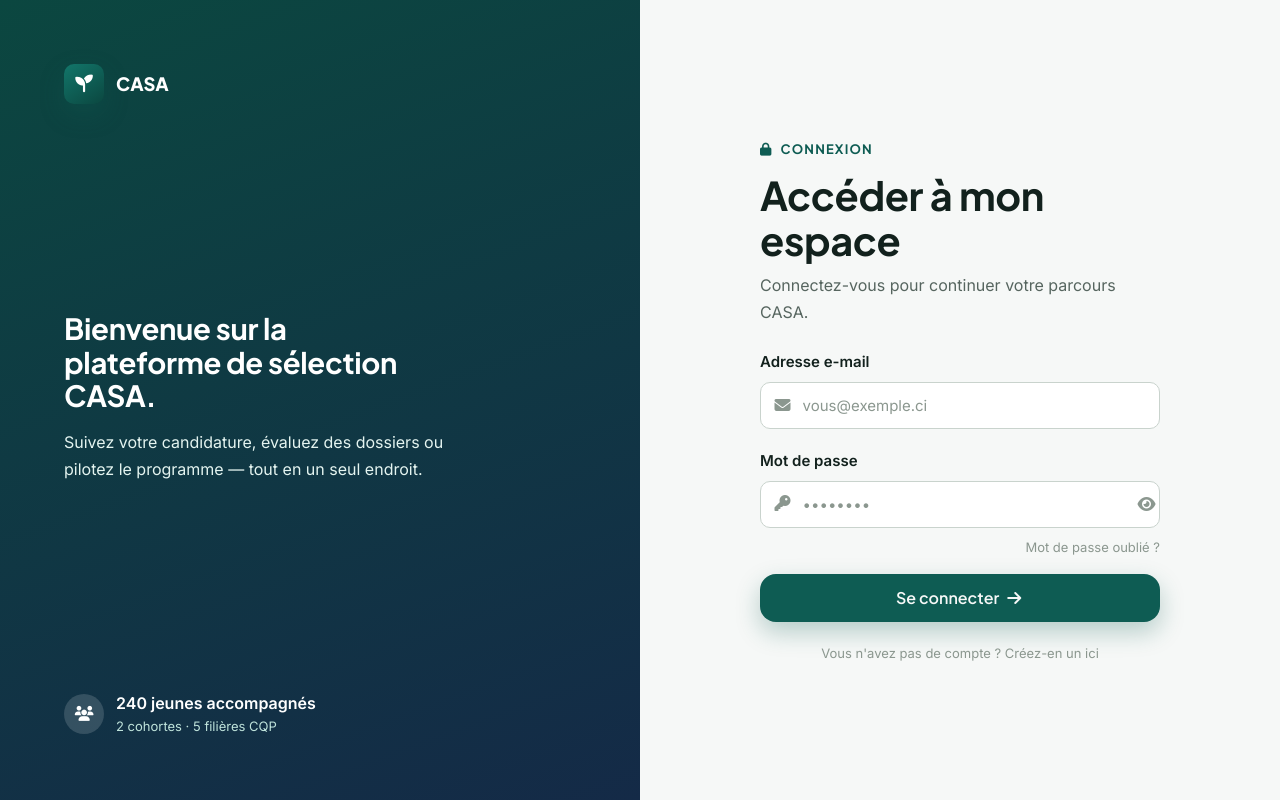
Test: LoginPage › 429 -> message « trop de tentatives »
This screenshot has width=1280, height=800.
Type "x@y.ci" into the field labelled "Adresse e-mail" at (960, 406), box 760,382 -> 1160,429
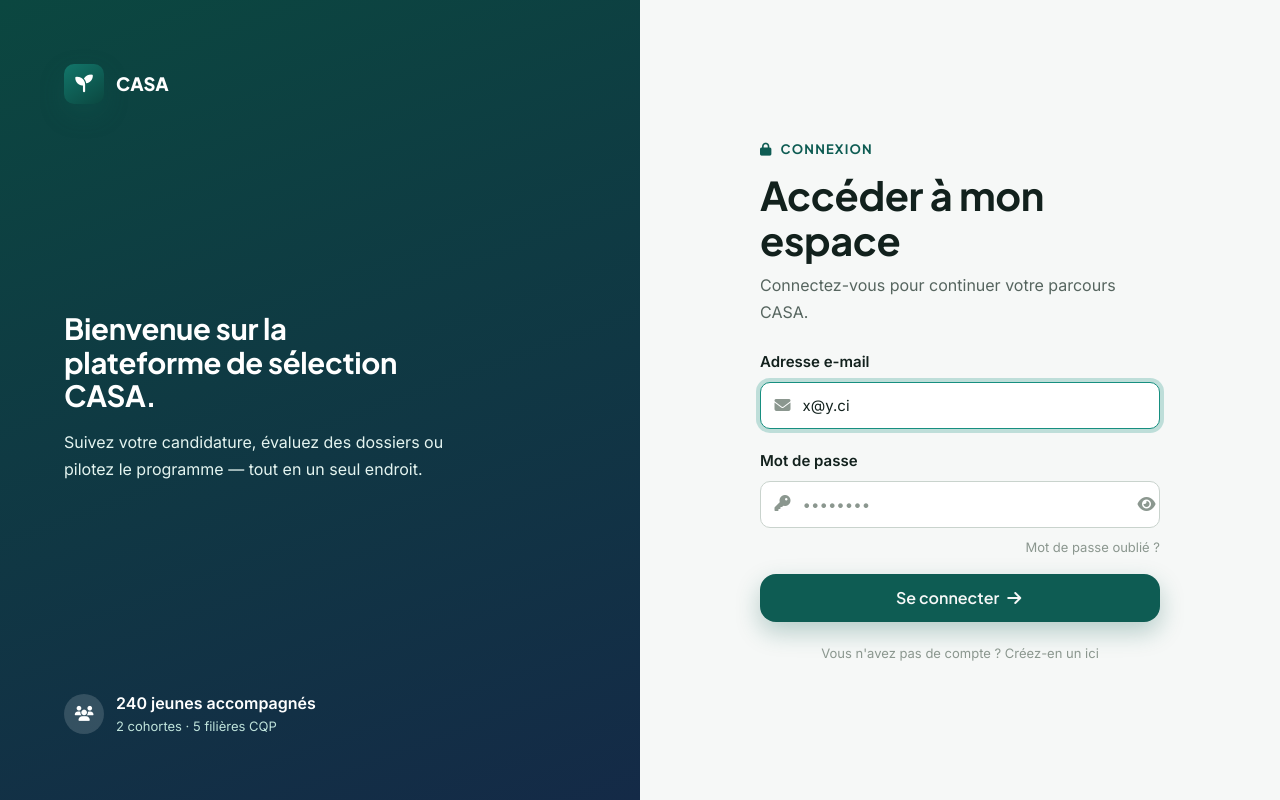
Type "faux" into the password field labelled "Mot de passe" at (960, 504), box 760,481 -> 1160,528
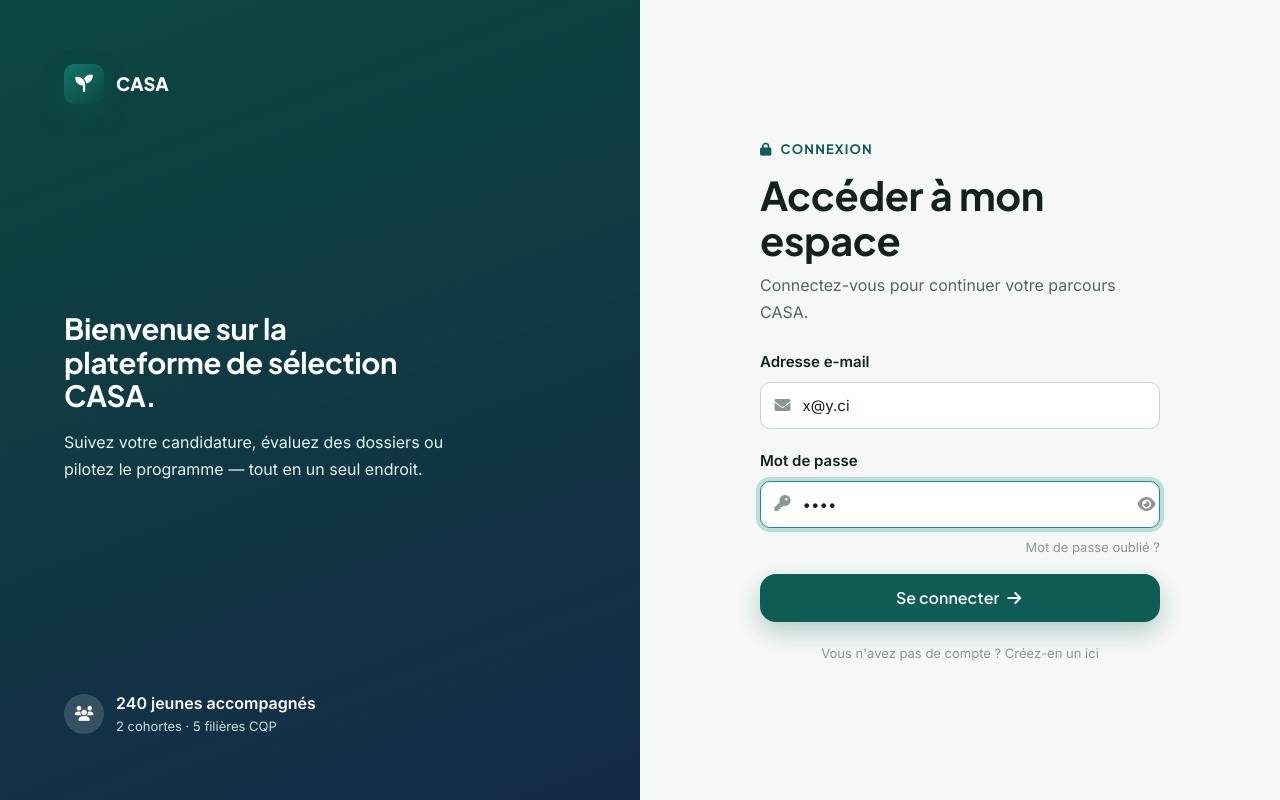
Click the button "Se connecter" at (960, 598), box 760,574 -> 1160,622
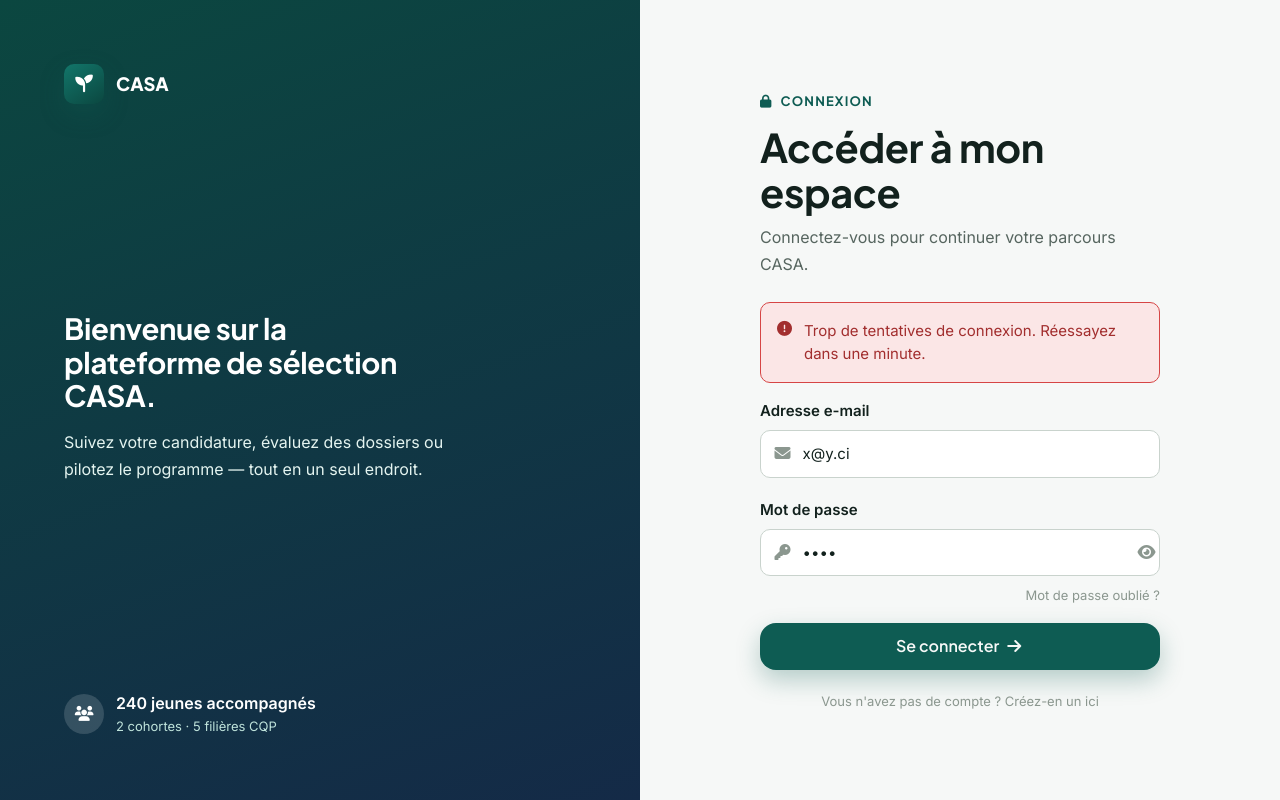
Check: the message shows "Trop de tentatives", box 804,321 -> 1116,364
